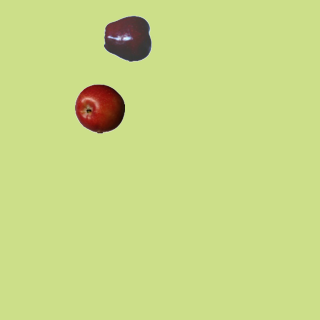Apple Braeburn: (74, 83, 124, 133)
Apple Red Delicious: (103, 13, 153, 63)
